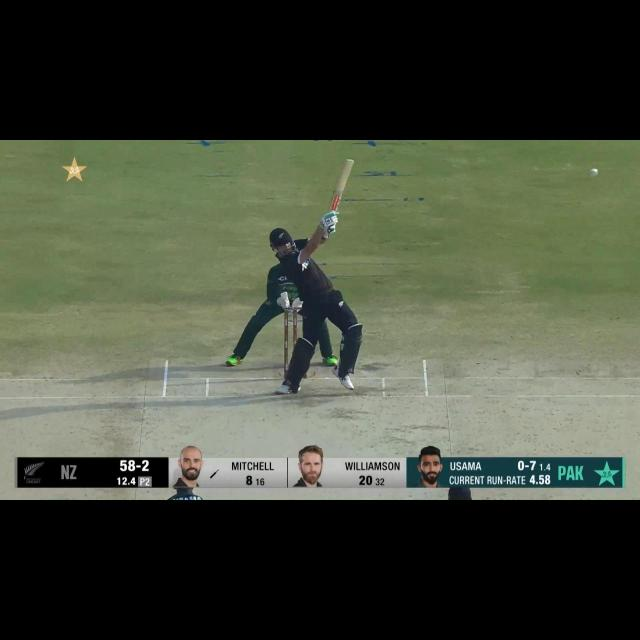bat: (328, 156, 355, 212)
toe: (345, 157, 357, 167)
